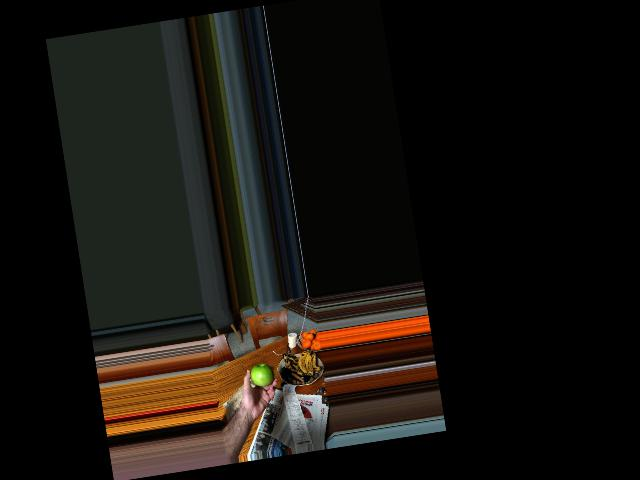apple: (245, 361, 274, 391)
